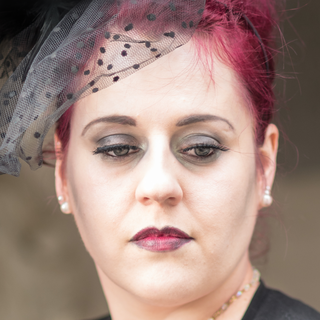eye: (169, 131, 233, 168), (90, 135, 149, 165)
